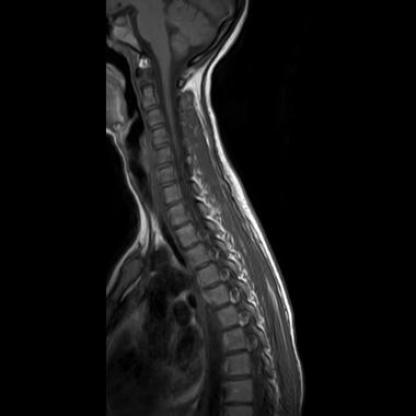Disc Bulgerotation: (153, 139, 169, 153)
